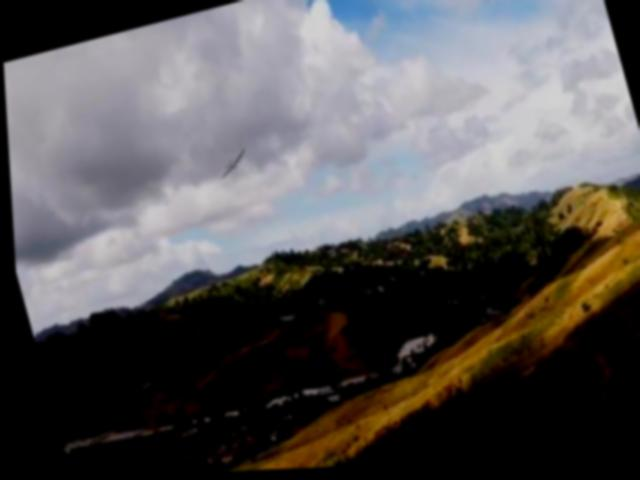iha: (213, 151, 250, 183)
